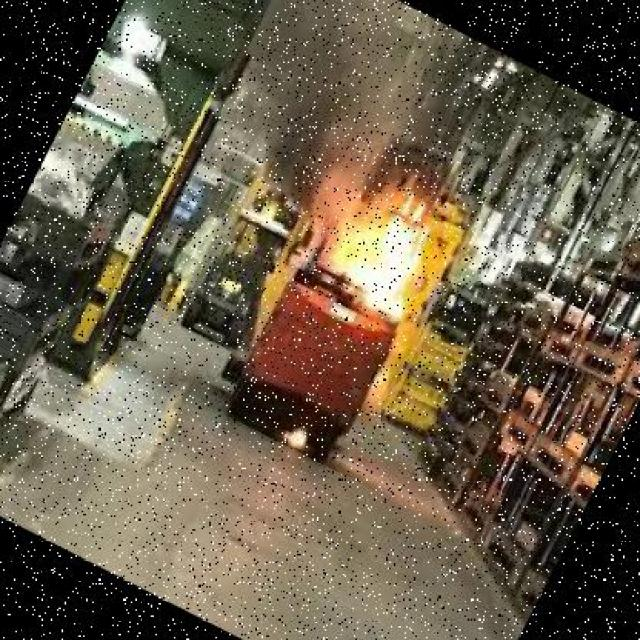fire: (282, 169, 449, 331)
